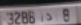2: (15, 12, 21, 24)
3: (6, 12, 14, 25)
6: (29, 10, 35, 23)
8: (22, 11, 28, 24), (63, 9, 69, 22)
d: (46, 12, 52, 21)
